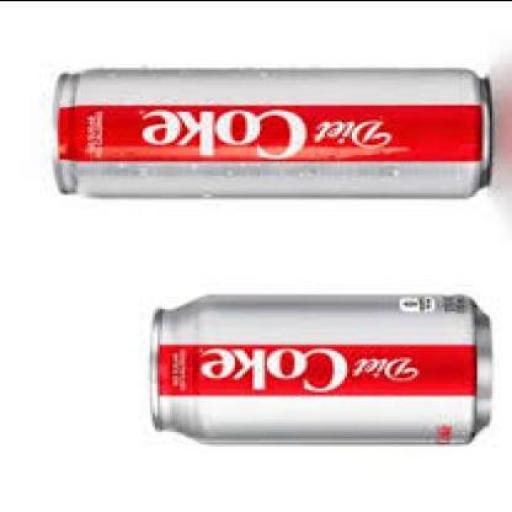metal: (50, 71, 487, 200), (147, 298, 489, 448)
